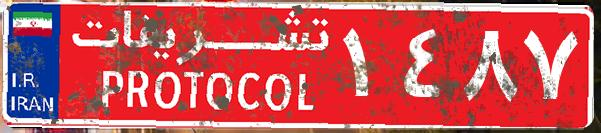1: (340, 20, 400, 115)
4: (400, 20, 460, 115)
7: (520, 20, 580, 115)
8: (460, 20, 520, 115)
تشریفات: (60, 8, 340, 125)
